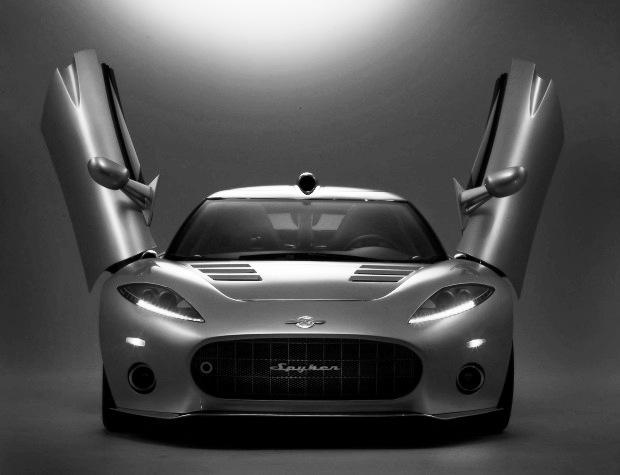car: (37, 49, 567, 446)
